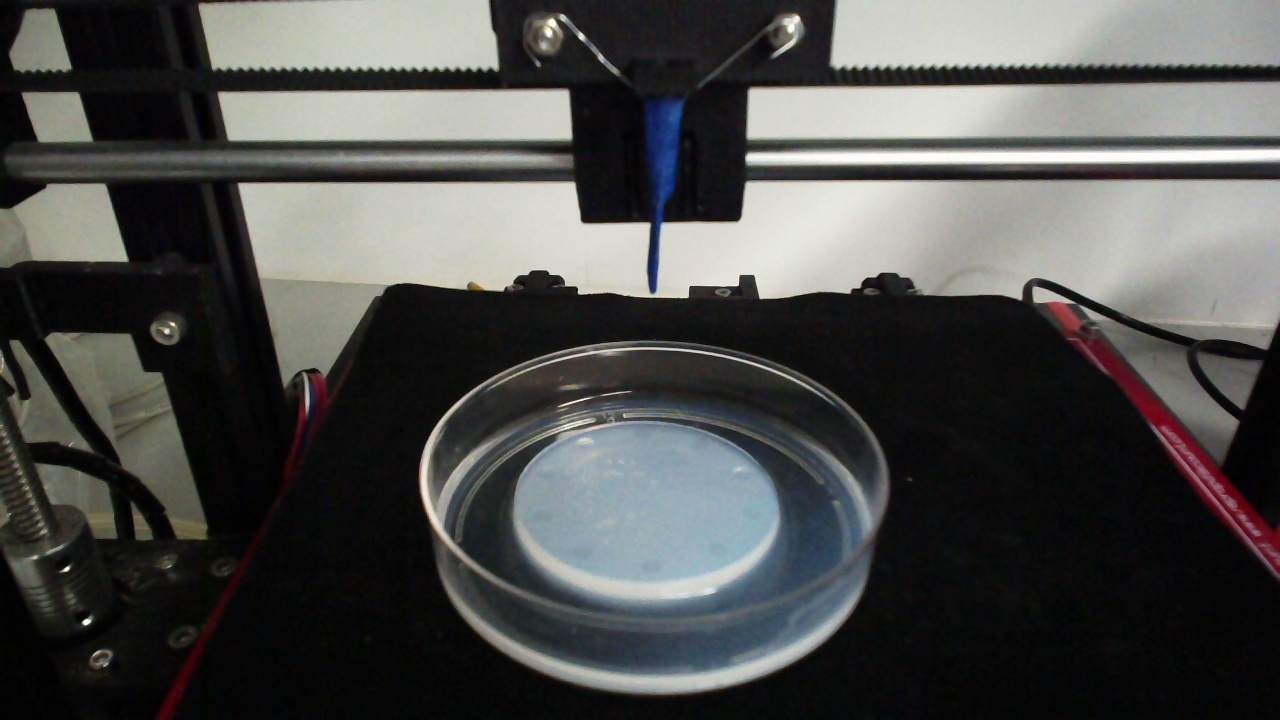groove: (705, 538, 731, 559), (638, 557, 663, 577), (569, 541, 593, 561), (528, 507, 552, 525), (740, 505, 763, 522), (687, 435, 710, 451), (730, 465, 751, 482), (574, 435, 596, 451), (533, 466, 554, 482), (631, 429, 651, 442)
needle: (645, 96, 683, 295)
